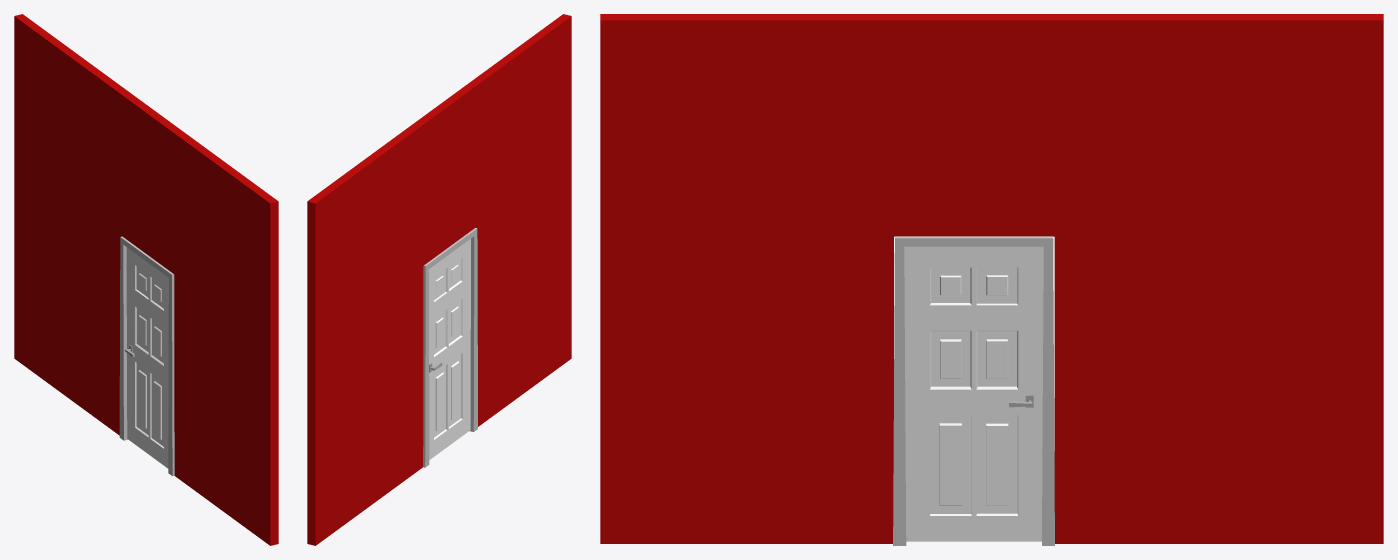
File: wall and door.fbx
3 renders of one model, left to right at view 1: azimuth 30°, elevation 25°; view 2: azimuth 150°, elevation 25°; view 3: azimuth 270°, elevation 25°, orthographic. The views are drawn at different scales.
Parts seen in each view (by area): view 1: wall_door, door; view 2: wall_door, door; view 3: wall_door, door.
Boxes of the visible parts, left/top/right/bottom form: wall_door: left=14, top=14, right=278, bottom=545; door: left=119, top=236, right=174, bottom=476; wall_door: left=307, top=14, right=571, bottom=545; door: left=423, top=228, right=477, bottom=467; wall_door: left=600, top=14, right=1383, bottom=543; door: left=893, top=236, right=1054, bottom=545.
Size of the model in its own units: 41.35 by 793 by 1073.
